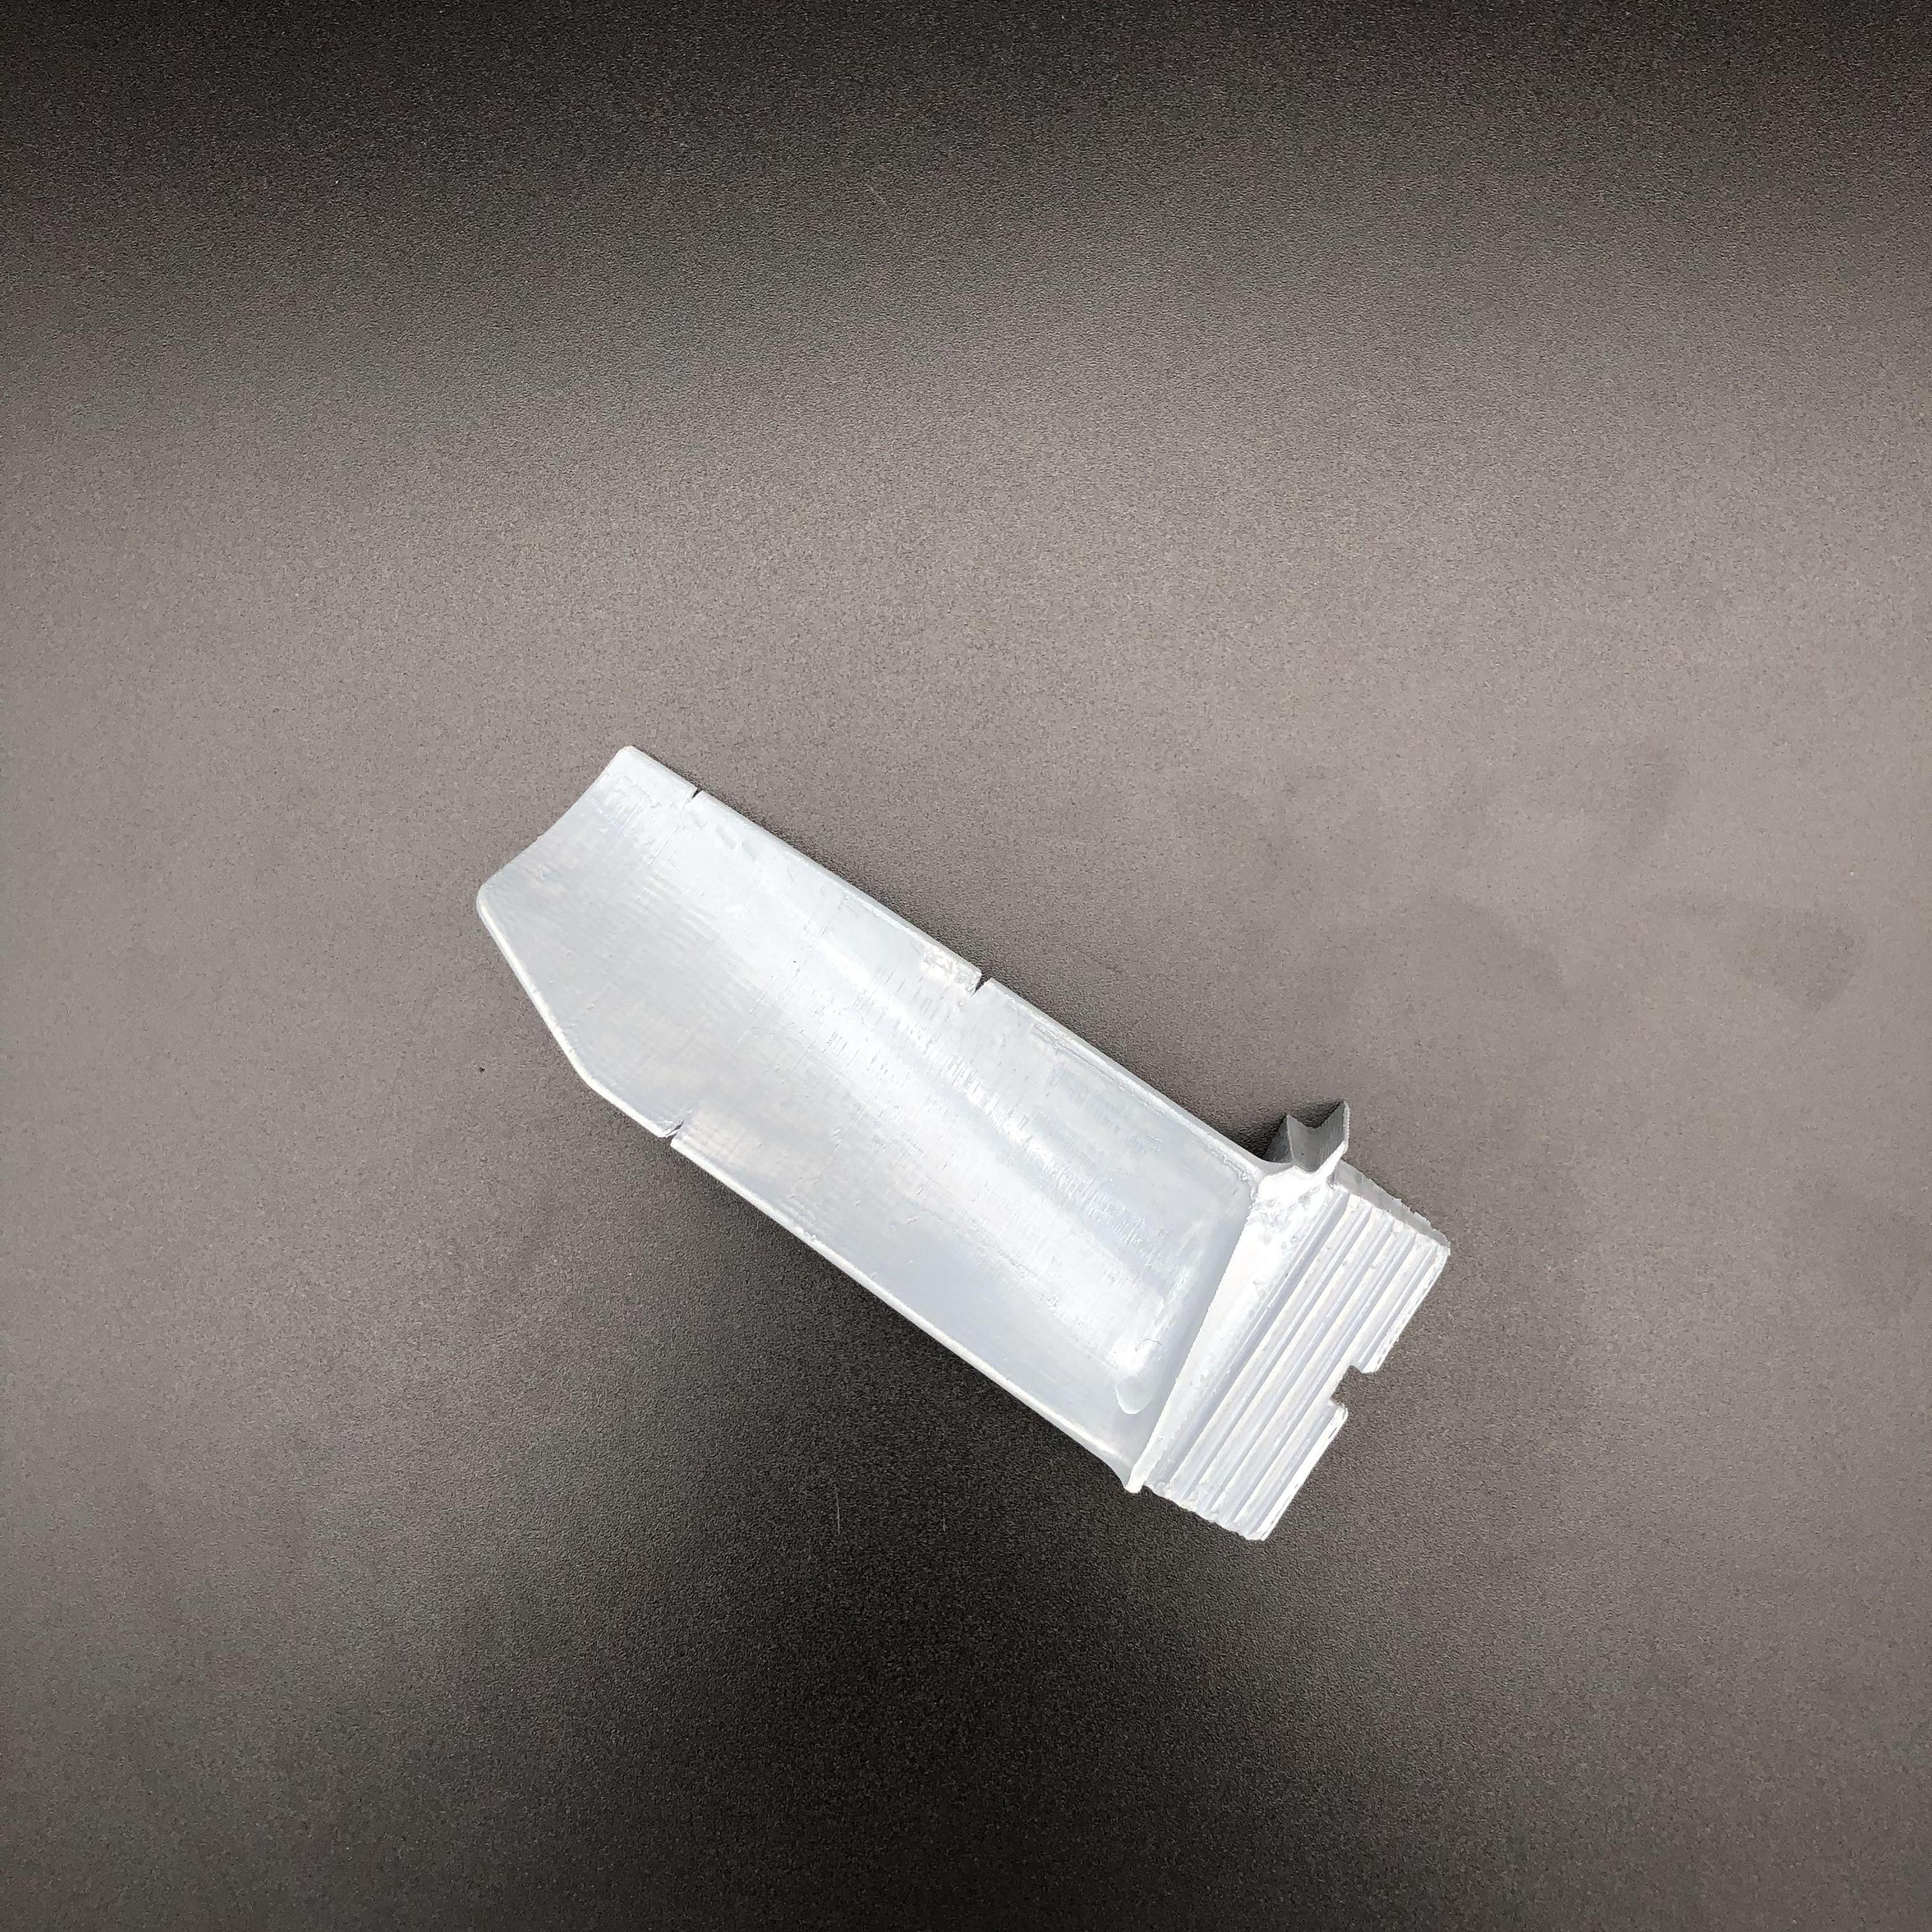groove: (656, 1111, 695, 1148), (681, 780, 720, 810), (966, 968, 1001, 998)
